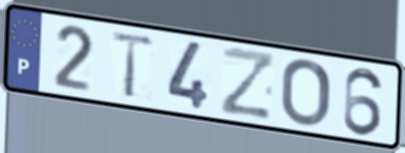2: (51, 24, 96, 95)
4: (165, 38, 215, 114)
6: (341, 64, 385, 138)
O: (279, 57, 333, 129)
T: (108, 29, 158, 100)
Z: (218, 43, 277, 122)
